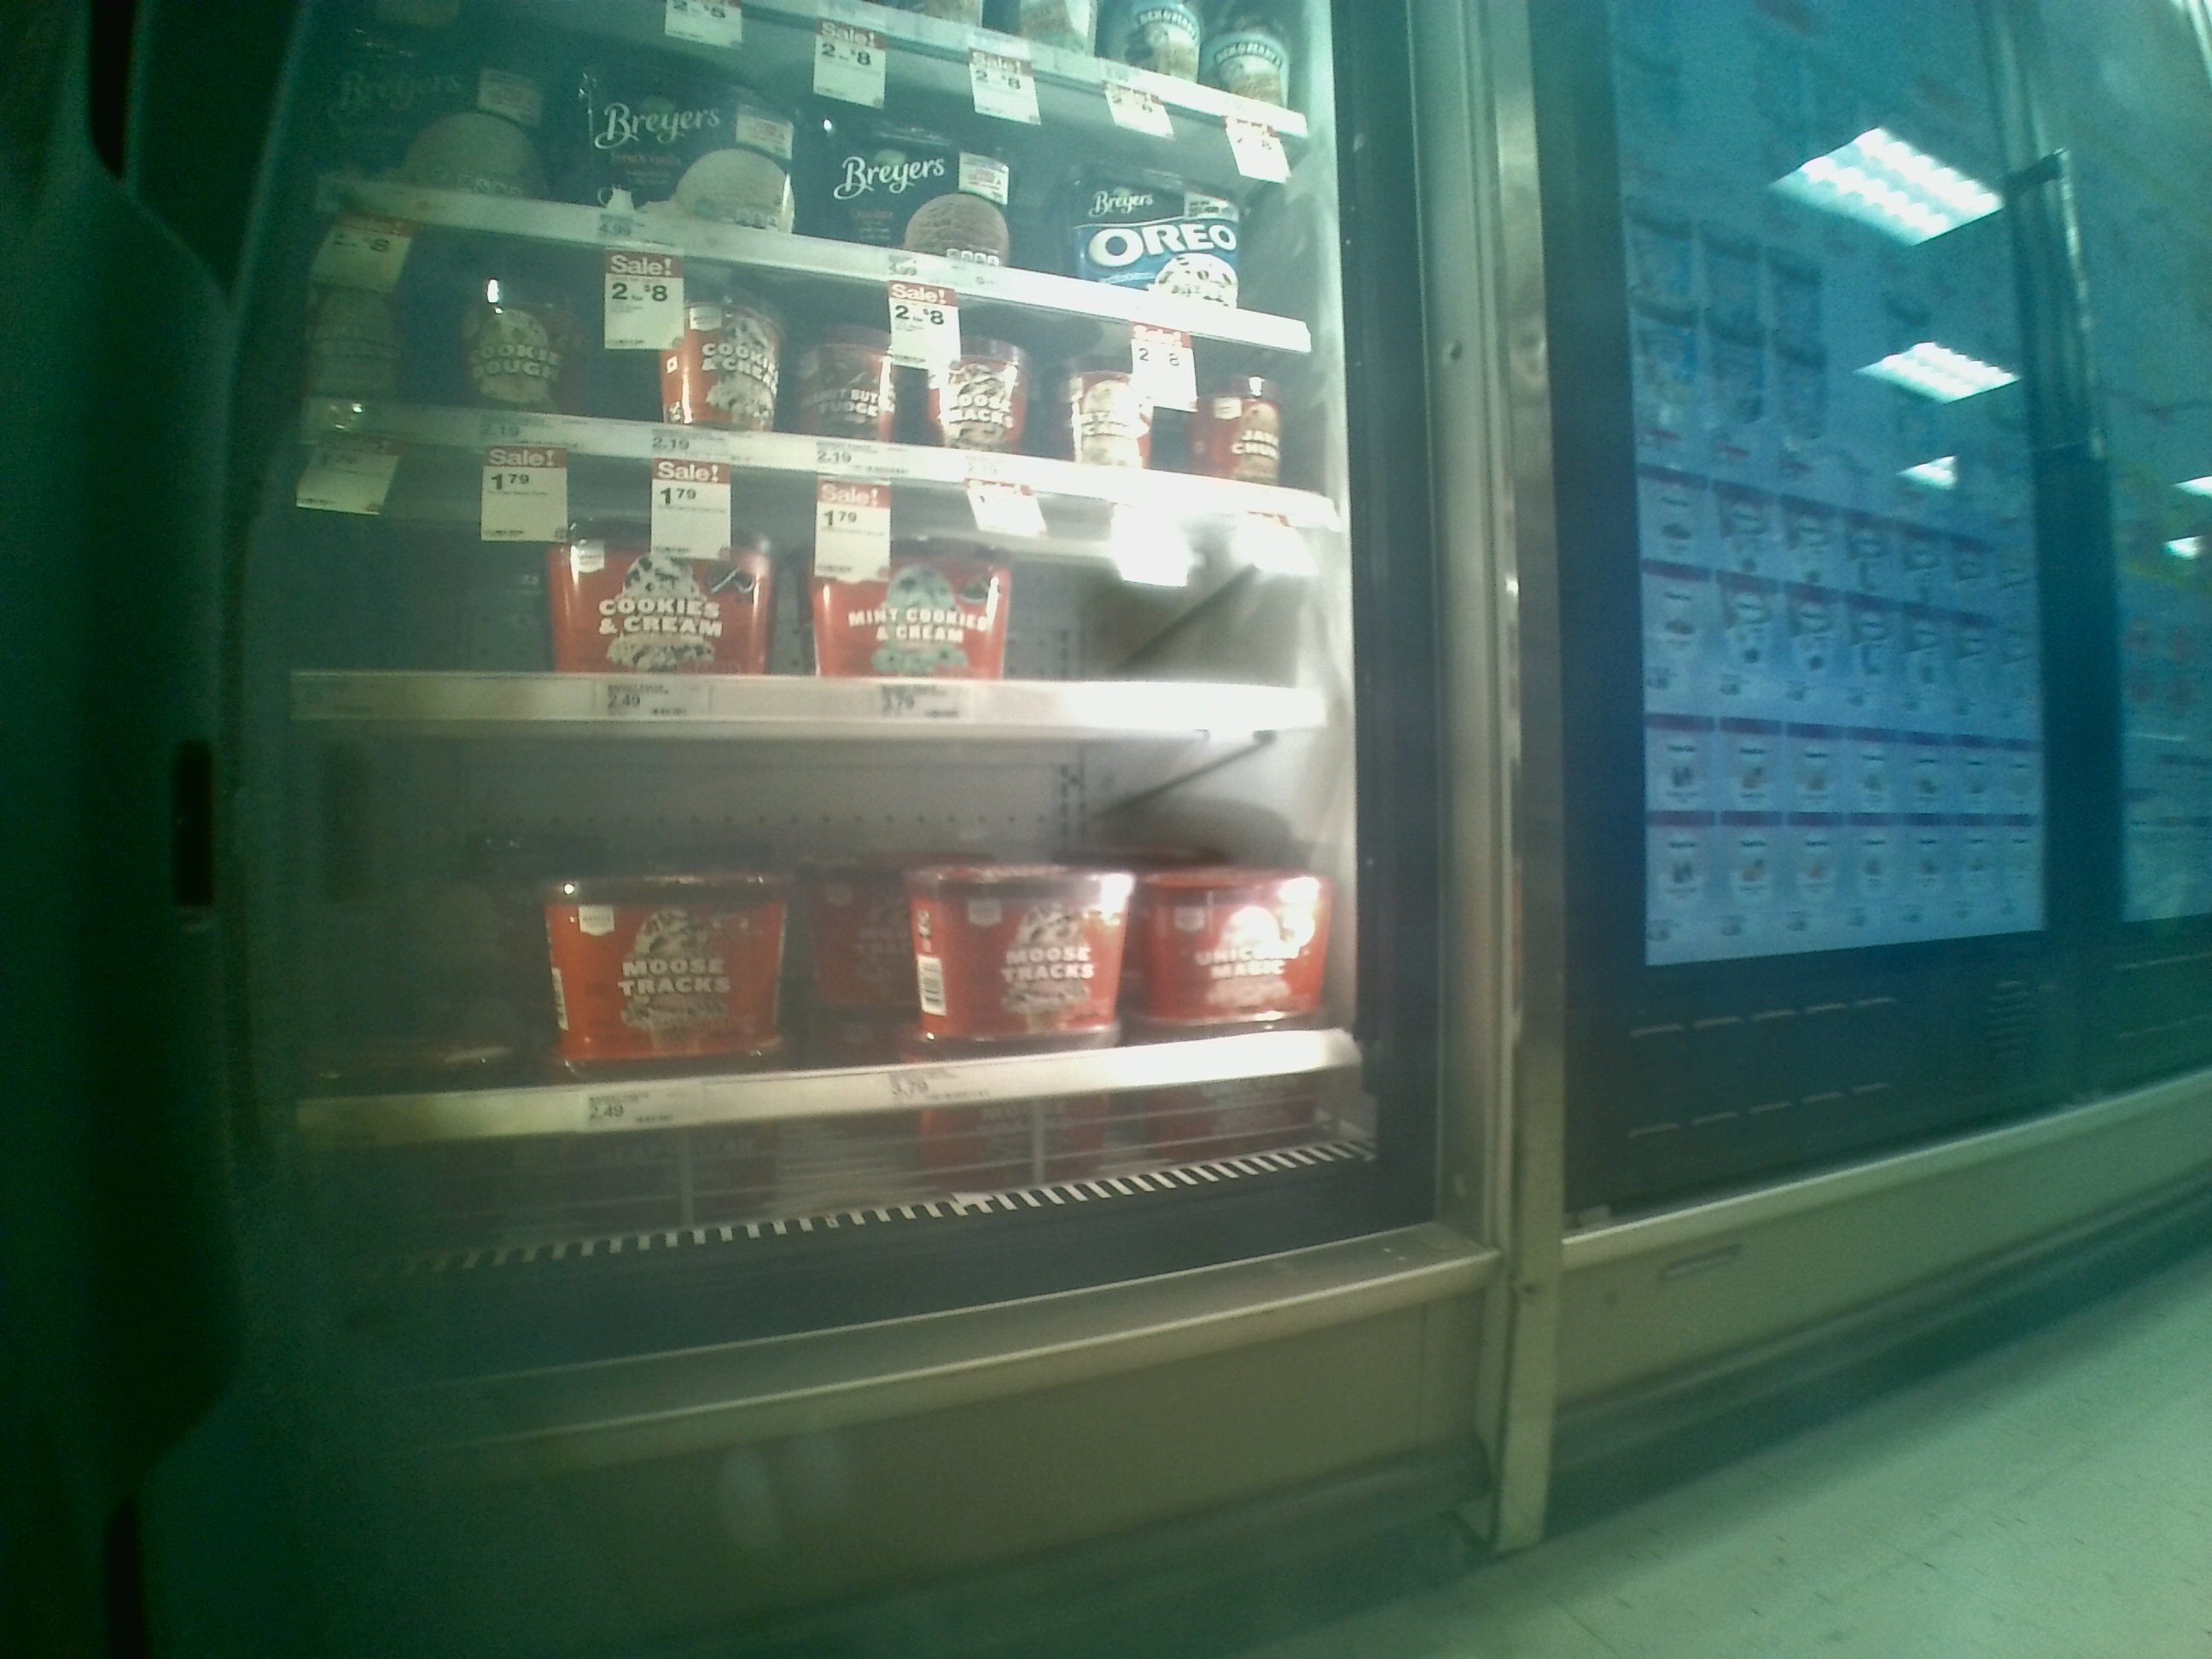ice-cream-shelf: (282, 744, 1374, 1175), (312, 498, 1346, 739)
